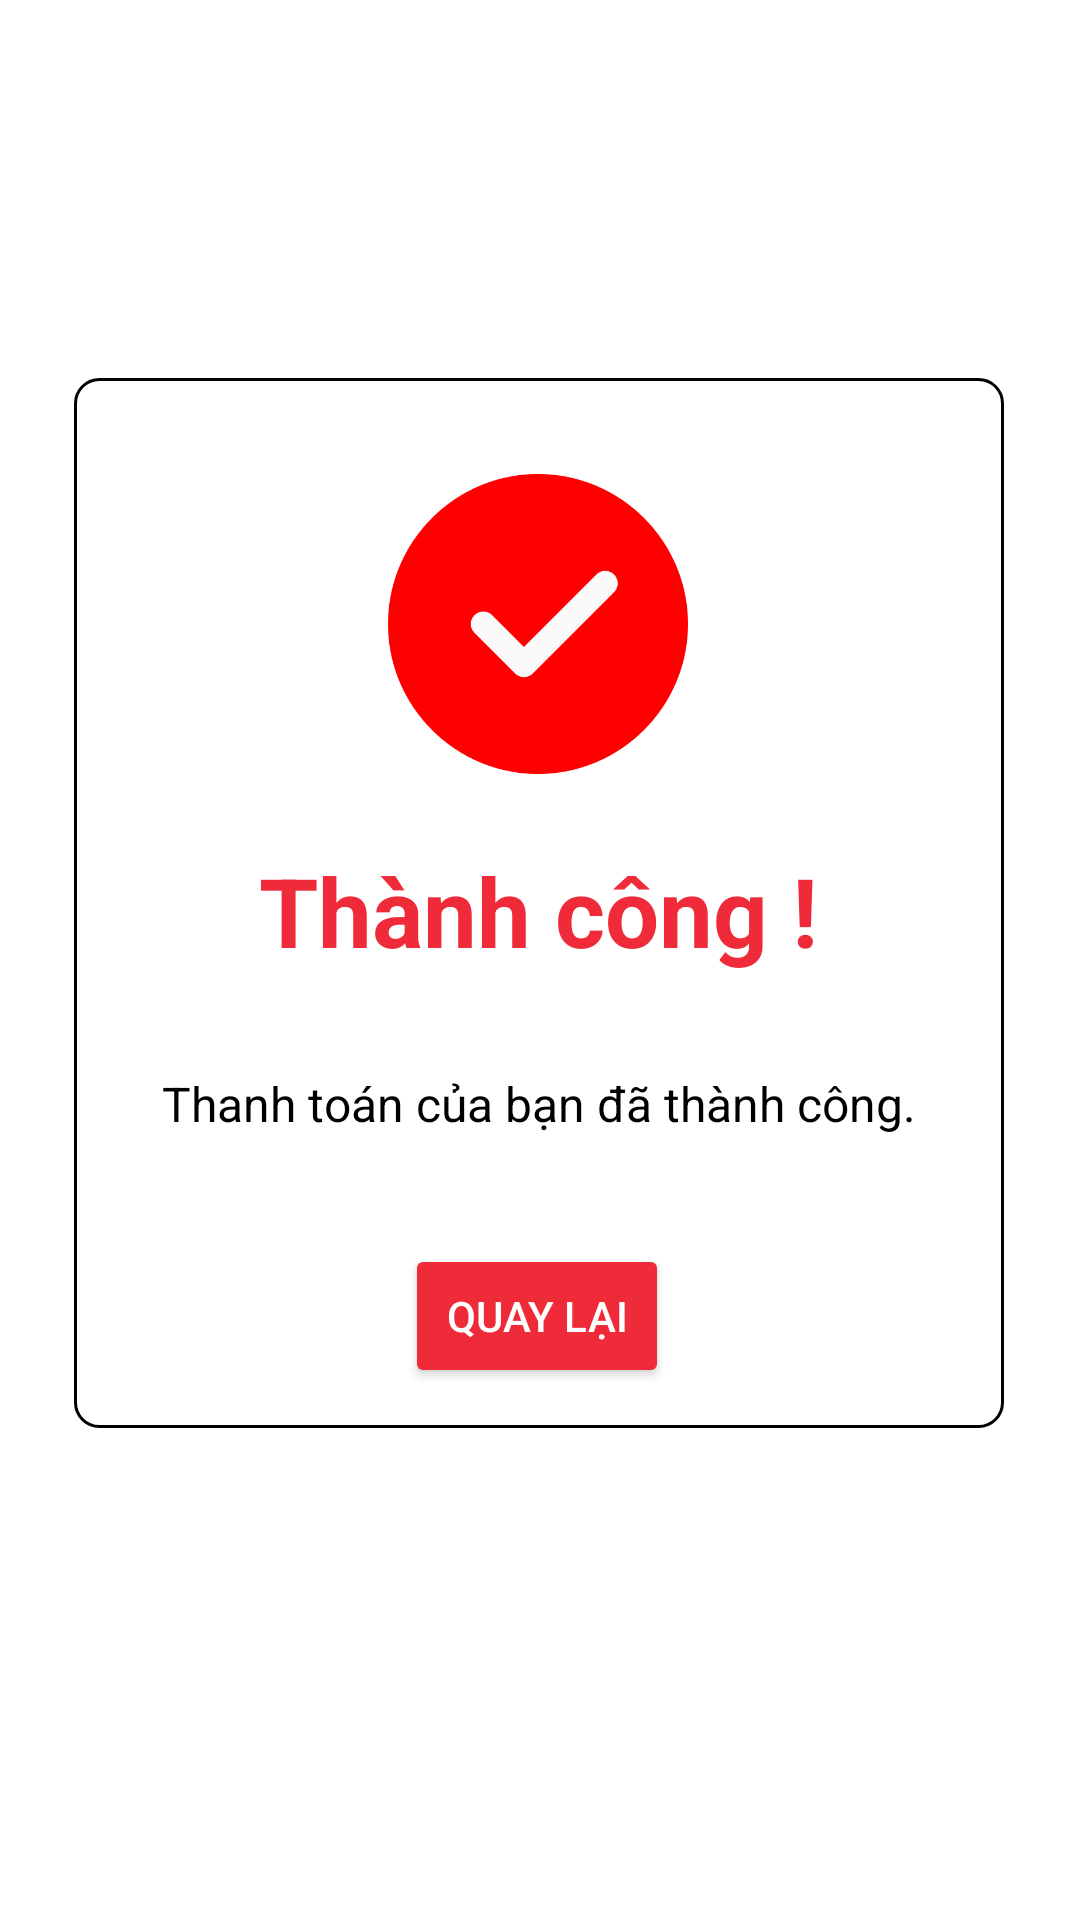

Screen size 1080x1920. Icon name, then its center in pixels as (x,y):
check: (538,624)
